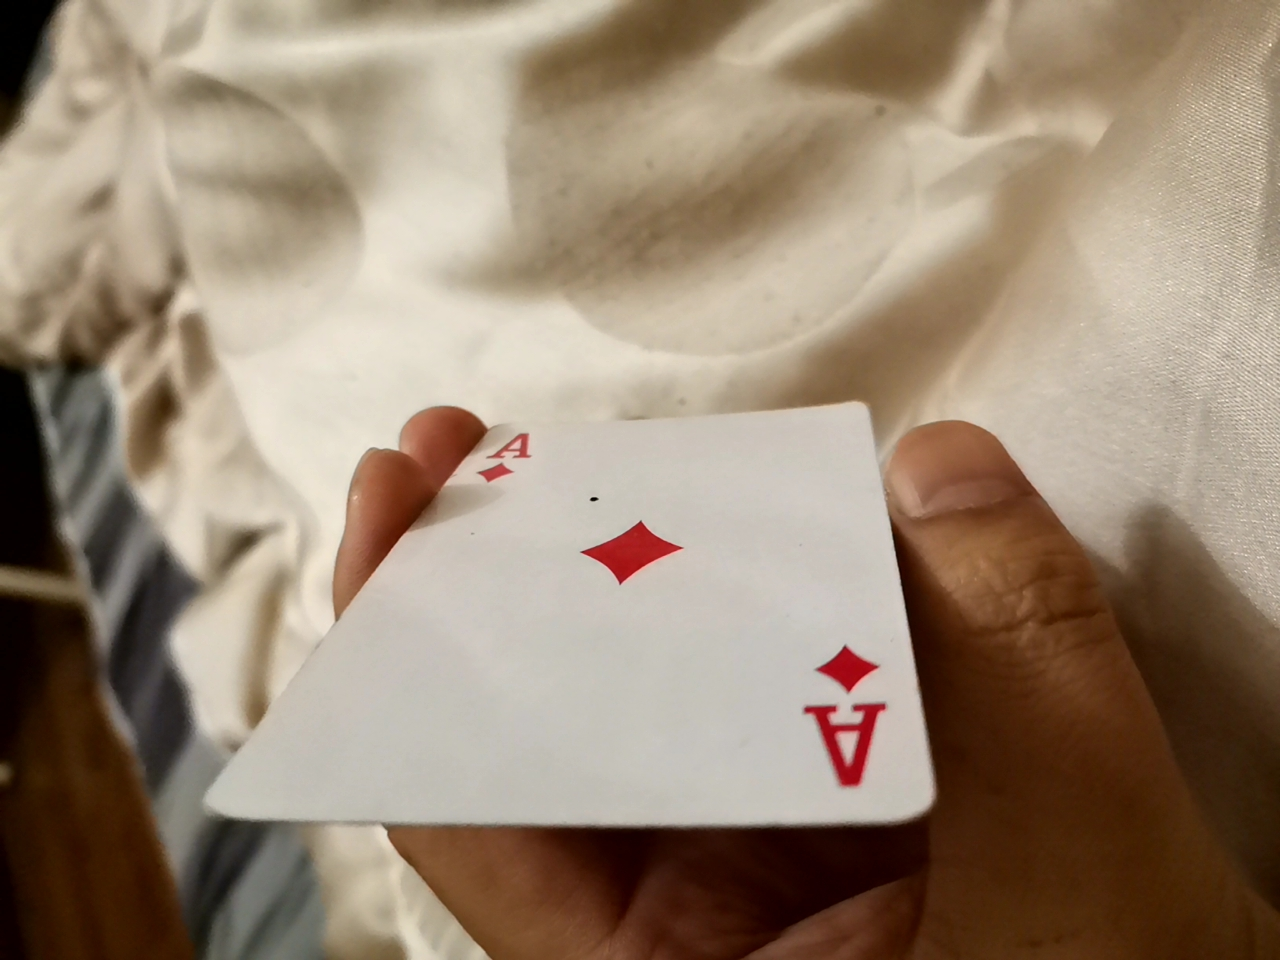fk a: (194, 351, 915, 841)
